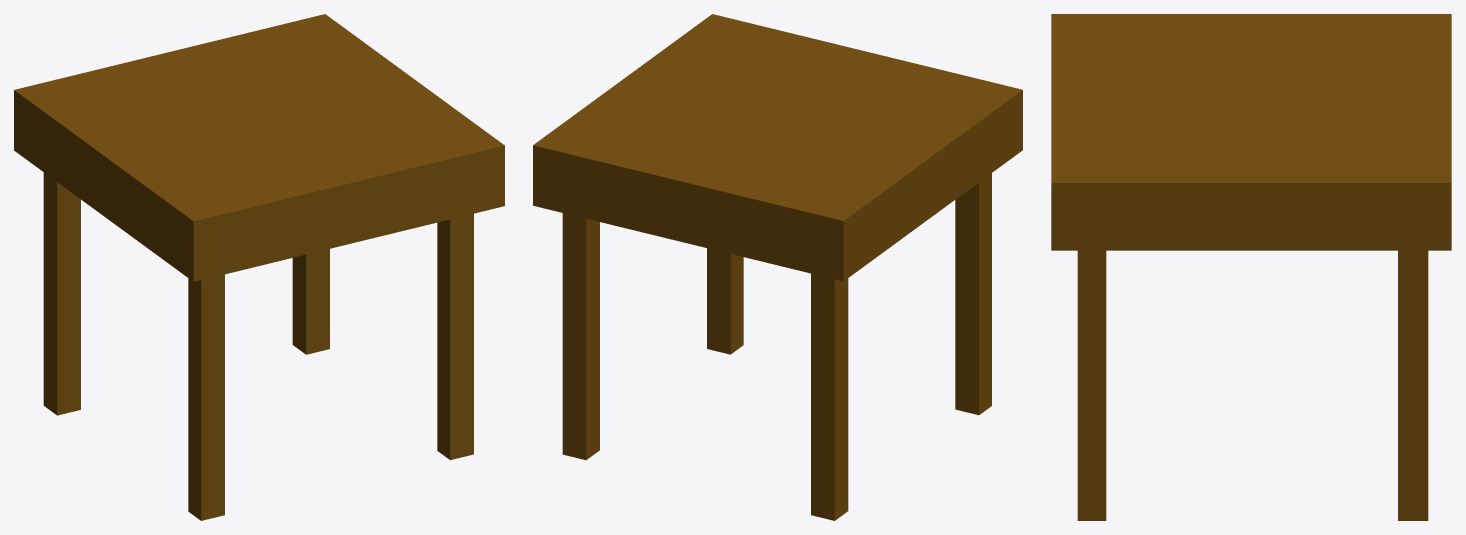
Rendered from SM_Table.fbx.
The picture shows the model from 3 angles, left to right: view 1: azimuth 30°, elevation 25°; view 2: azimuth 150°, elevation 25°; view 3: azimuth 270°, elevation 25°; orthographic projection. The views are drawn at different scales.
Visible parts, largest first — view 1: SM_Table; view 2: SM_Table; view 3: SM_Table.
Boxes of the visible parts, <box> form: SM_Table: <box>14,14,504,520</box>; SM_Table: <box>533,14,1022,520</box>; SM_Table: <box>1051,14,1451,520</box>.
Bounding box in the file's own units: 42.99 × 41.29 × 42.99.
